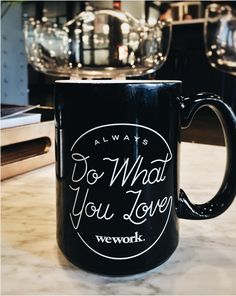wework: (94, 230, 143, 245)
